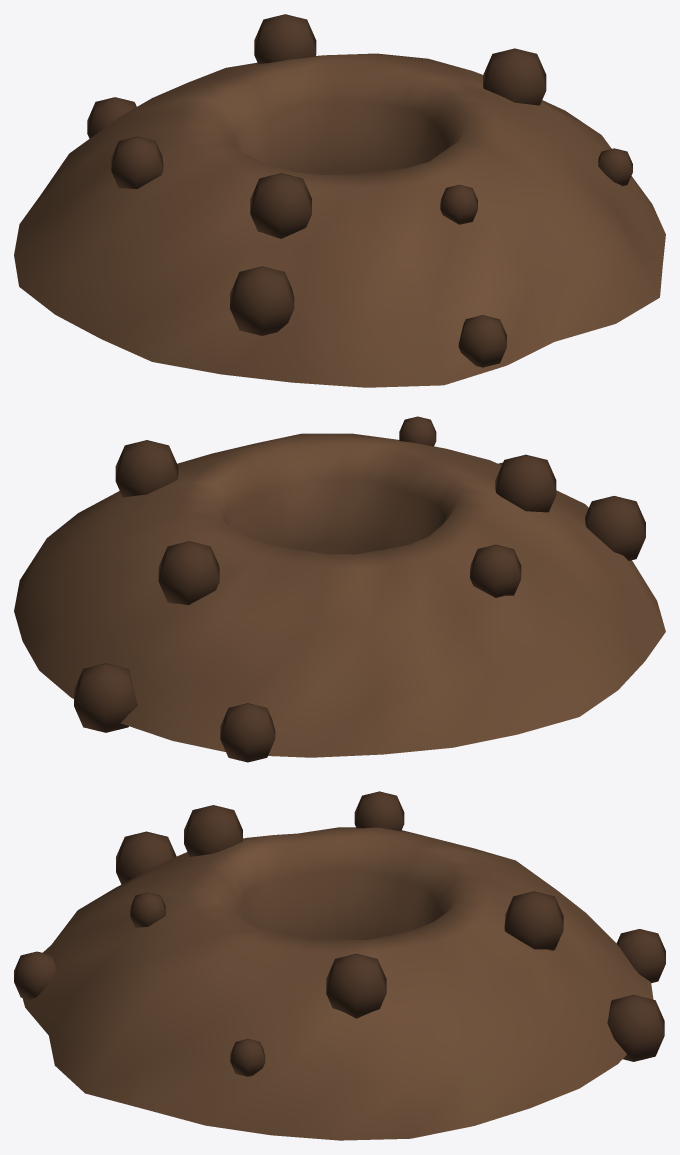
The model's file is Mogura_Hill.fbx.
The picture shows the model from 3 angles, top to bottom: view 1: azimuth 30°, elevation 25°; view 2: azimuth 150°, elevation 25°; view 3: azimuth 270°, elevation 25°; orthographic projection. The views are drawn at different scales.
Visible parts, largest first — view 1: Mogura_Hill; view 2: Mogura_Hill; view 3: Mogura_Hill.
Boxes of the visible parts, <box> form: Mogura_Hill: <box>14,14,665,387</box>; Mogura_Hill: <box>14,416,665,762</box>; Mogura_Hill: <box>14,791,665,1140</box>.
Bounding box in the file's own units: 5.2 × 1.46 × 5.39.
